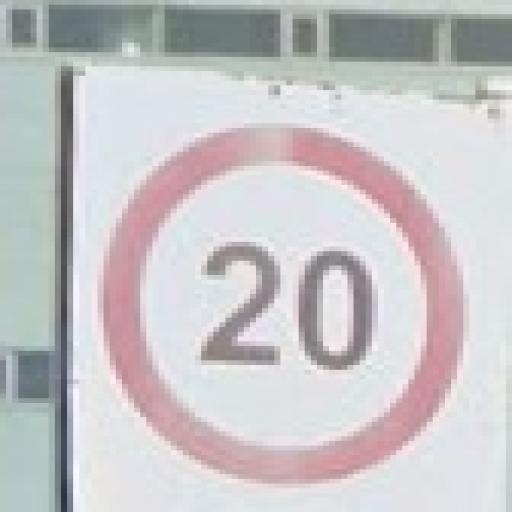traffic_sign: (99, 124, 471, 485)
